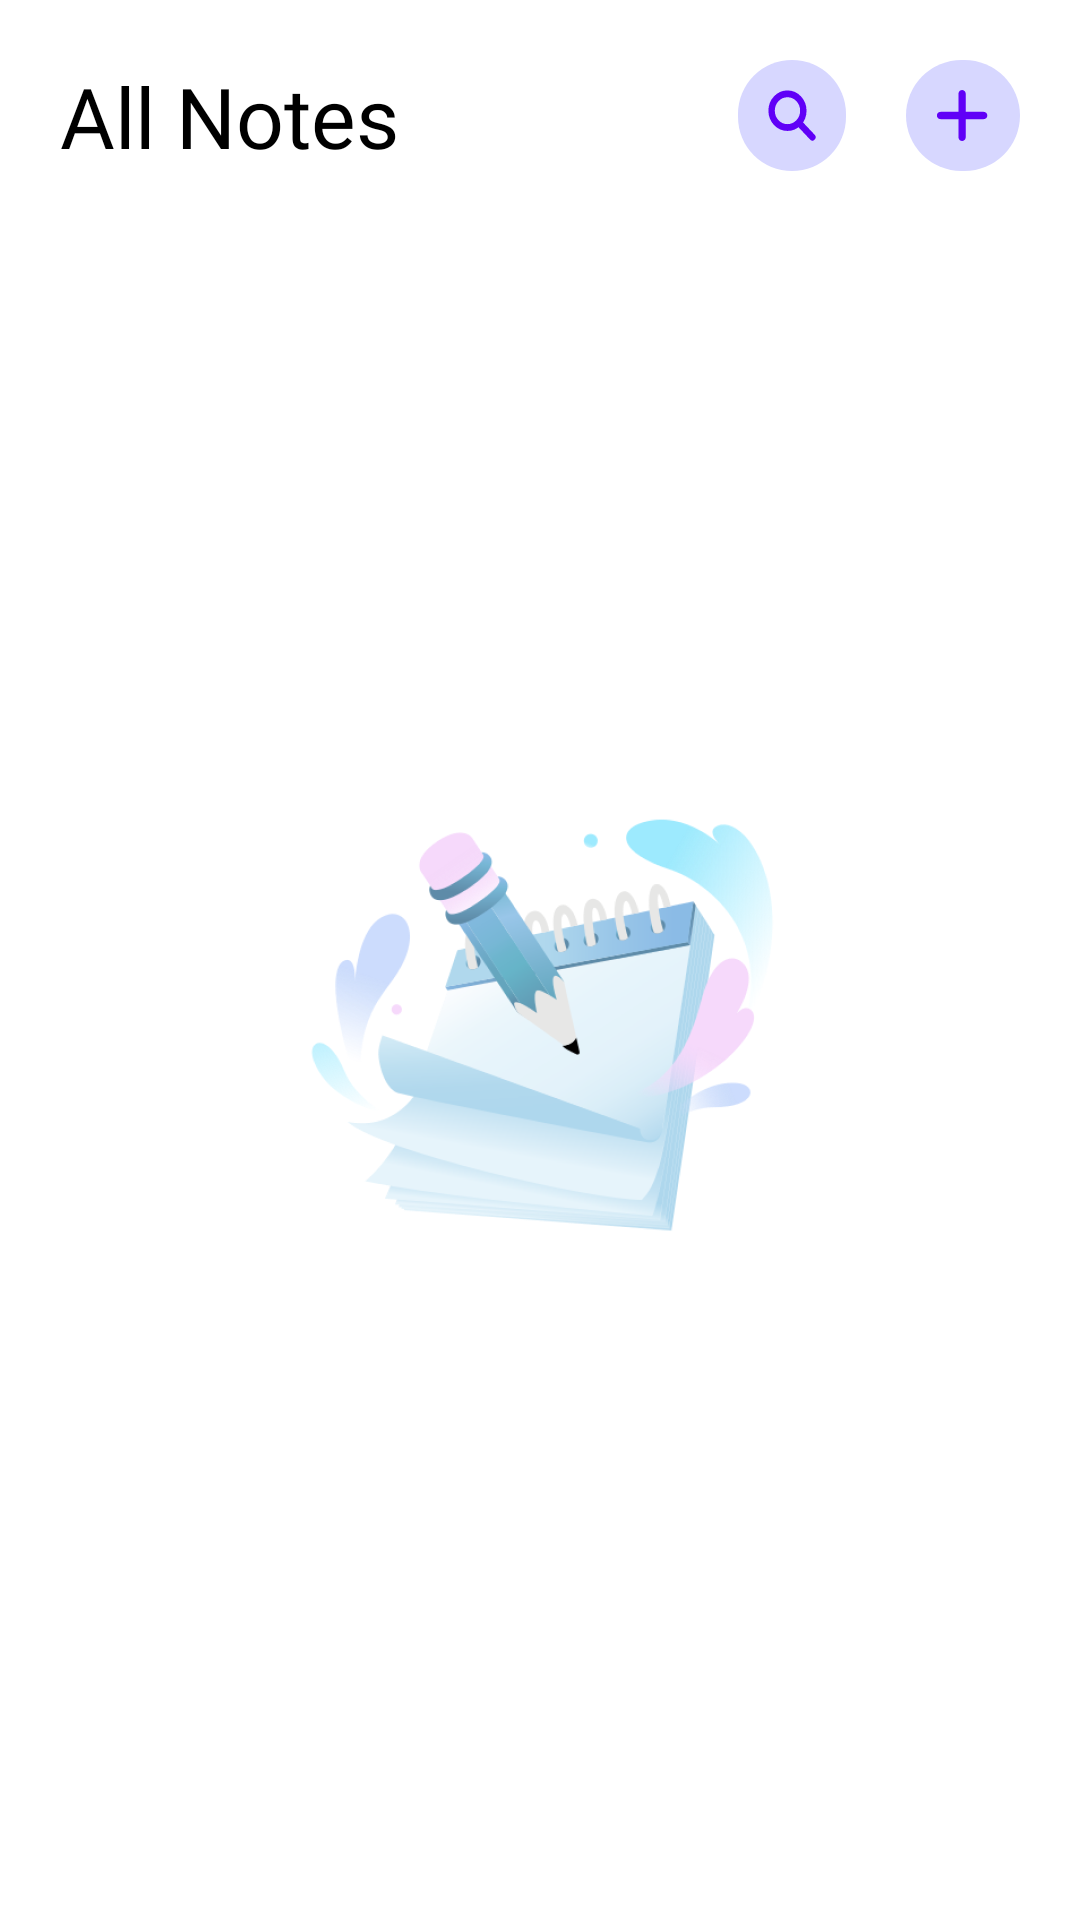

Icon bounding boxes for this 1080 x 1920 phone screenshot, format (x1,y1,x2,y2):
plus: (906,60,1020,171)
search: (738,60,846,171)
